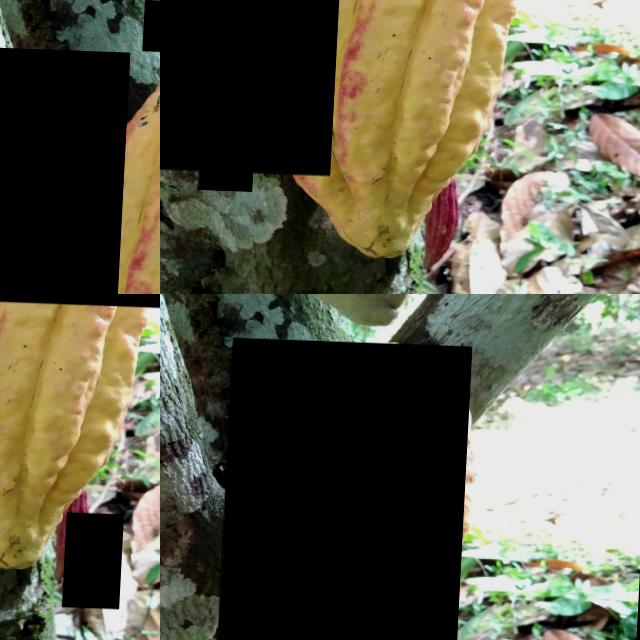Monilia: (68, 509, 129, 605)
Sana: (216, 336, 473, 640), (0, 44, 131, 294), (160, 0, 343, 173), (416, 162, 597, 282), (189, 294, 409, 323), (197, 187, 257, 210), (203, 168, 258, 190), (222, 198, 252, 229), (143, 0, 160, 49)
